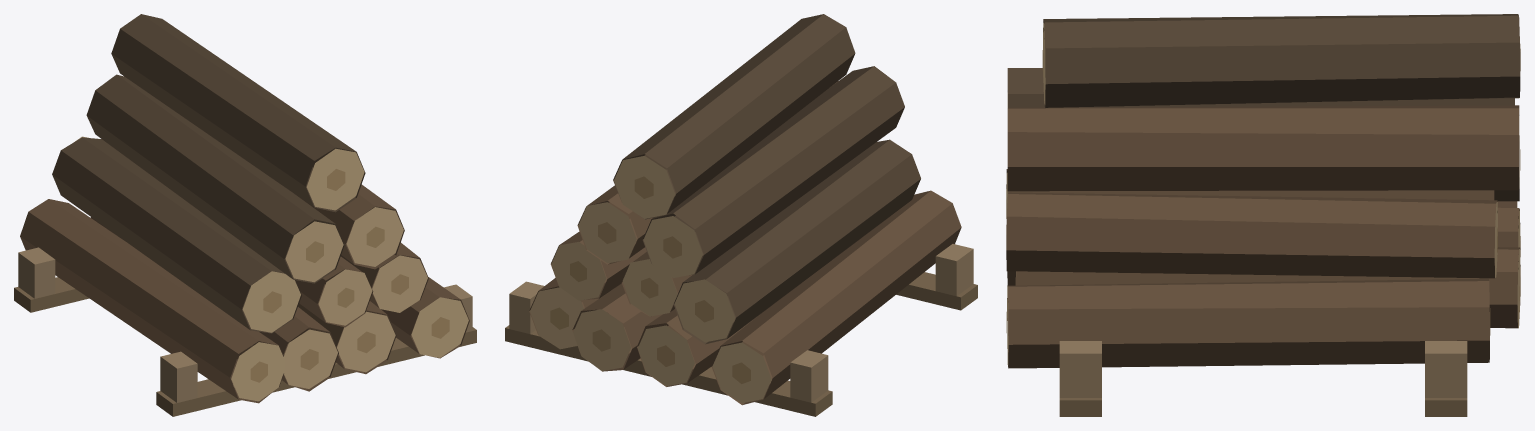
Rendered from material_pile_wood.glb.
The picture shows the model from 3 angles, left to right: view 1: azimuth 30°, elevation 25°; view 2: azimuth 150°, elevation 25°; view 3: azimuth 270°, elevation 25°; orthographic projection. The views are drawn at different scales.
Visible parts, largest first — view 1: wood_piece_08, wood_piece_10, wood_piece_01, wood_piece_05, wood_base, wood_piece_09, wood_piece_04, wood_piece_02, wood_piece_06, wood_piece_03, wood_piece_07; view 2: wood_piece_08, wood_piece_10, wood_piece_05, wood_piece_01, wood_base, wood_piece_03, wood_piece_02, wood_piece_09, wood_piece_07, wood_piece_04, wood_piece_06; view 3: wood_piece_09, wood_piece_10, wood_piece_07, wood_piece_04, wood_base, wood_piece_03, wood_piece_08, wood_piece_06, wood_piece_02.
Boxes of the visible parts, left/top/right/bottom form: wood_piece_08: left=86, top=74, right=344, bottom=283; wood_piece_10: left=111, top=14, right=365, bottom=212; wood_piece_01: left=20, top=199, right=284, bottom=403; wood_piece_05: left=52, top=136, right=301, bottom=333; wood_base: left=14, top=247, right=476, bottom=416; wood_piece_09: left=298, top=184, right=404, bottom=269; wood_piece_04: left=381, top=277, right=469, bottom=358; wood_piece_02: left=90, top=217, right=338, bottom=391; wood_piece_06: left=295, top=256, right=373, bottom=327; wood_piece_03: left=298, top=301, right=396, bottom=374; wood_piece_07: left=341, top=242, right=428, bottom=312; wood_piece_08: left=642, top=66, right=904, bottom=278; wood_piece_10: left=613, top=14, right=855, bottom=219; wood_piece_05: left=673, top=139, right=920, bottom=344; wood_piece_01: left=711, top=190, right=961, bottom=405; wood_base: left=505, top=244, right=977, bottom=416; wood_piece_03: left=572, top=283, right=662, bottom=371; wood_piece_02: left=637, top=309, right=757, bottom=386; wood_piece_09: left=577, top=81, right=838, bottom=264; wood_piece_07: left=550, top=231, right=646, bottom=300; wood_piece_04: left=529, top=278, right=614, bottom=349; wood_piece_06: left=621, top=252, right=691, bottom=316; wood_piece_09: left=1007, top=105, right=1519, bottom=191; wood_piece_10: left=1042, top=14, right=1520, bottom=107; wood_piece_07: left=1006, top=192, right=1497, bottom=278; wood_piece_04: left=1006, top=278, right=1490, bottom=368; wood_base: left=1059, top=341, right=1467, bottom=416; wood_piece_03: left=1015, top=247, right=1520, bottom=328; wood_piece_08: left=1007, top=68, right=1514, bottom=107; wood_piece_06: left=1007, top=190, right=1494, bottom=200; wood_piece_02: left=1007, top=207, right=1520, bottom=285.
Bounding box in the file's own units: 0.74 × 0.5493 × 0.845.
